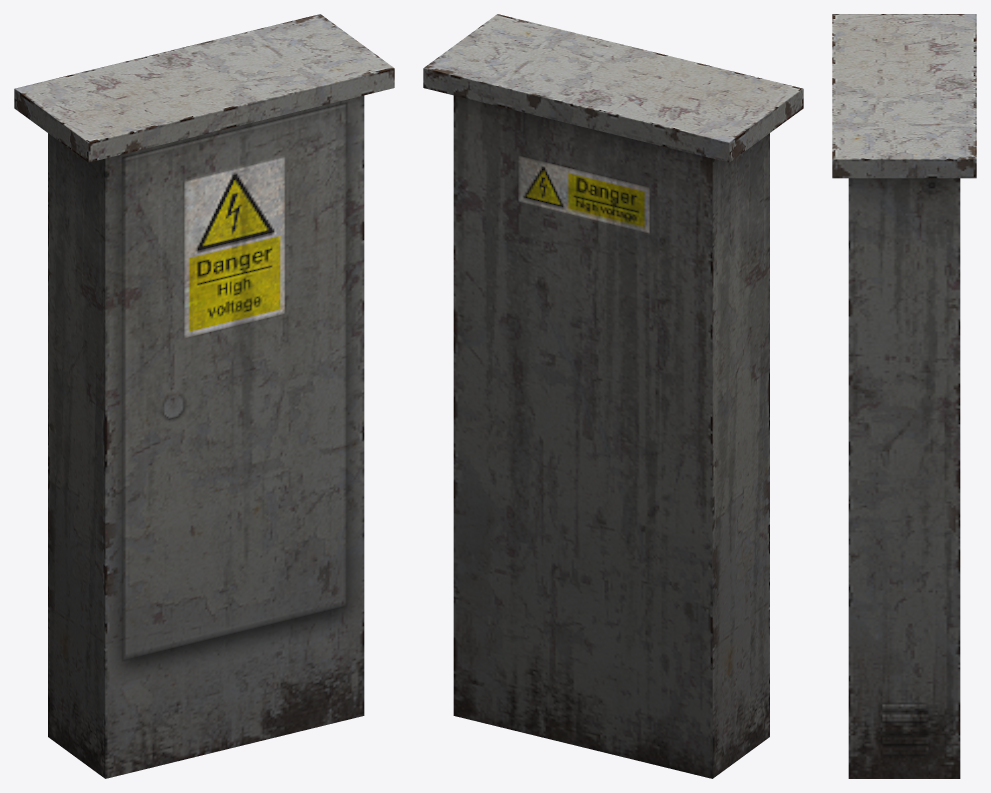
File: powerbox2.fbx
The picture shows the model from 3 angles, left to right: view 1: azimuth 30°, elevation 25°; view 2: azimuth 150°, elevation 25°; view 3: azimuth 270°, elevation 25°; orthographic projection. The views are drawn at different scales.
Visible parts, largest first — view 1: powerboxes_LP_polySurface76; view 2: powerboxes_LP_polySurface76; view 3: powerboxes_LP_polySurface76.
Boxes of the visible parts, x1,y1,x2,y2 form: powerboxes_LP_polySurface76: [14, 14, 394, 778]; powerboxes_LP_polySurface76: [423, 14, 803, 778]; powerboxes_LP_polySurface76: [832, 14, 976, 778].
Size of the model in its own units: 0.9265 by 1.87 by 0.3888.
